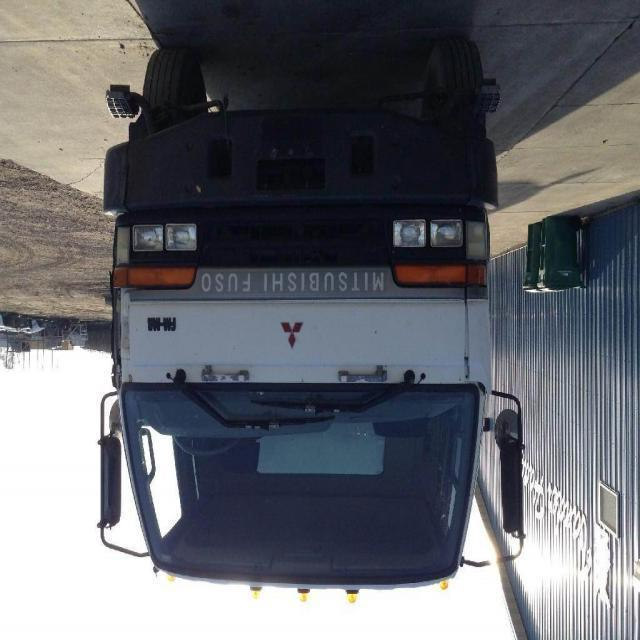truck: (98, 34, 526, 602)
